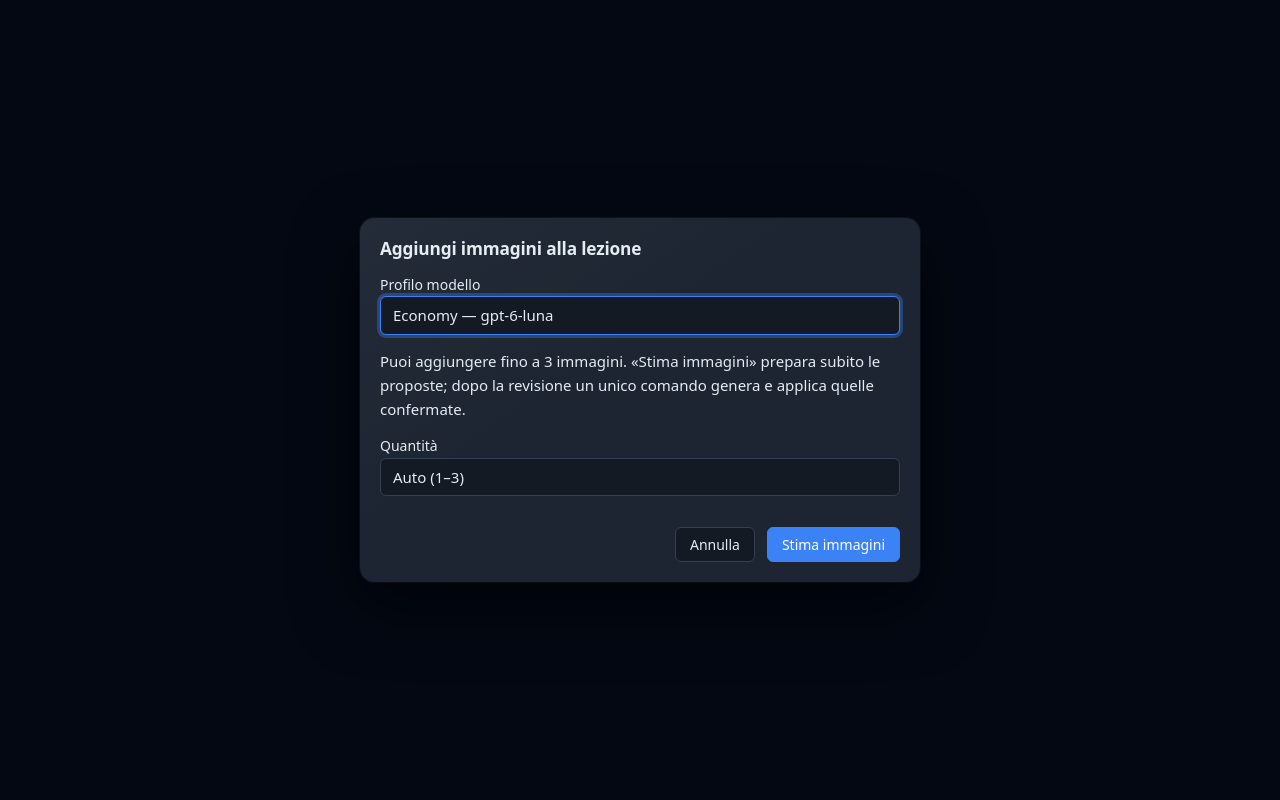
it: LessonMultiVisualWorkflowDialog › continua sugli slot successivi se un errore locale interrompe uno slot
Click the button "Stima immagini": (833, 544) [767, 527, 900, 562]
(page scrolled)
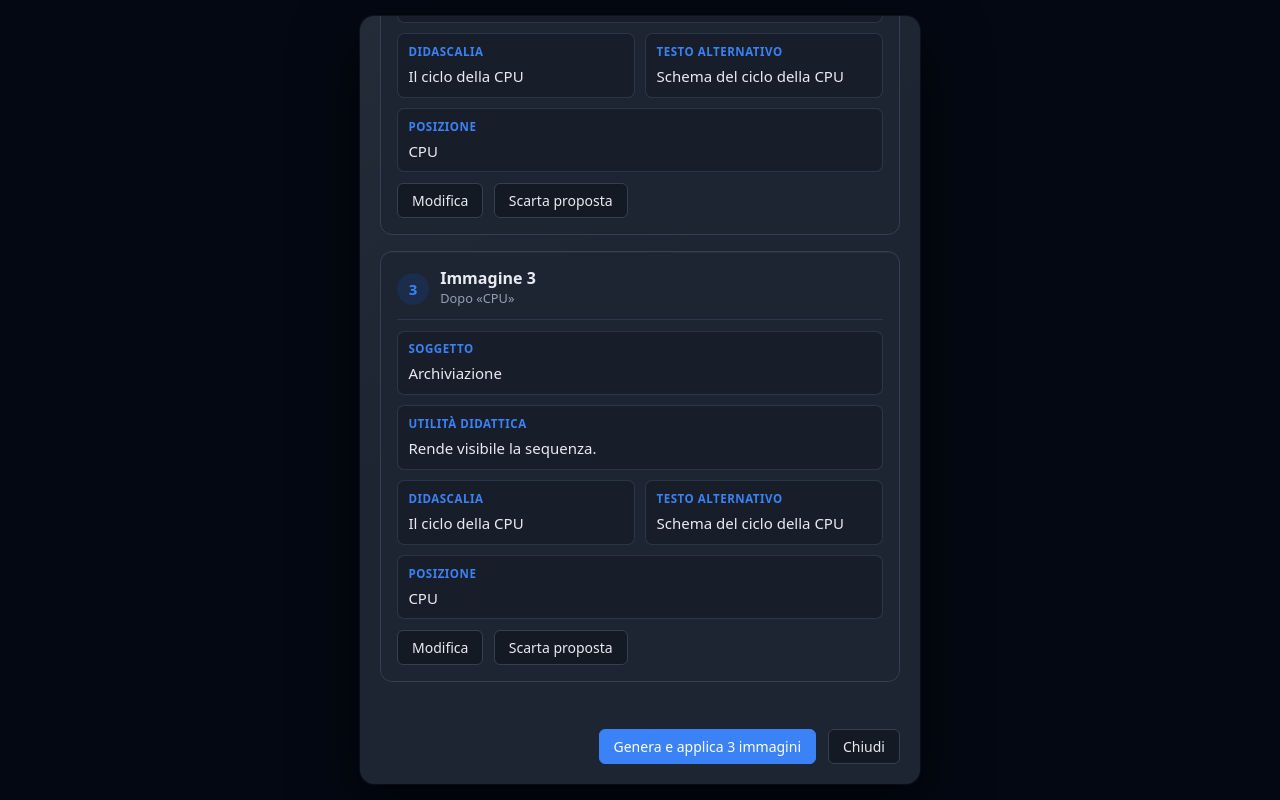
Click the button "Genera e applica 3 immagini": (707, 747) [598, 729, 816, 764]
(page scrolled)
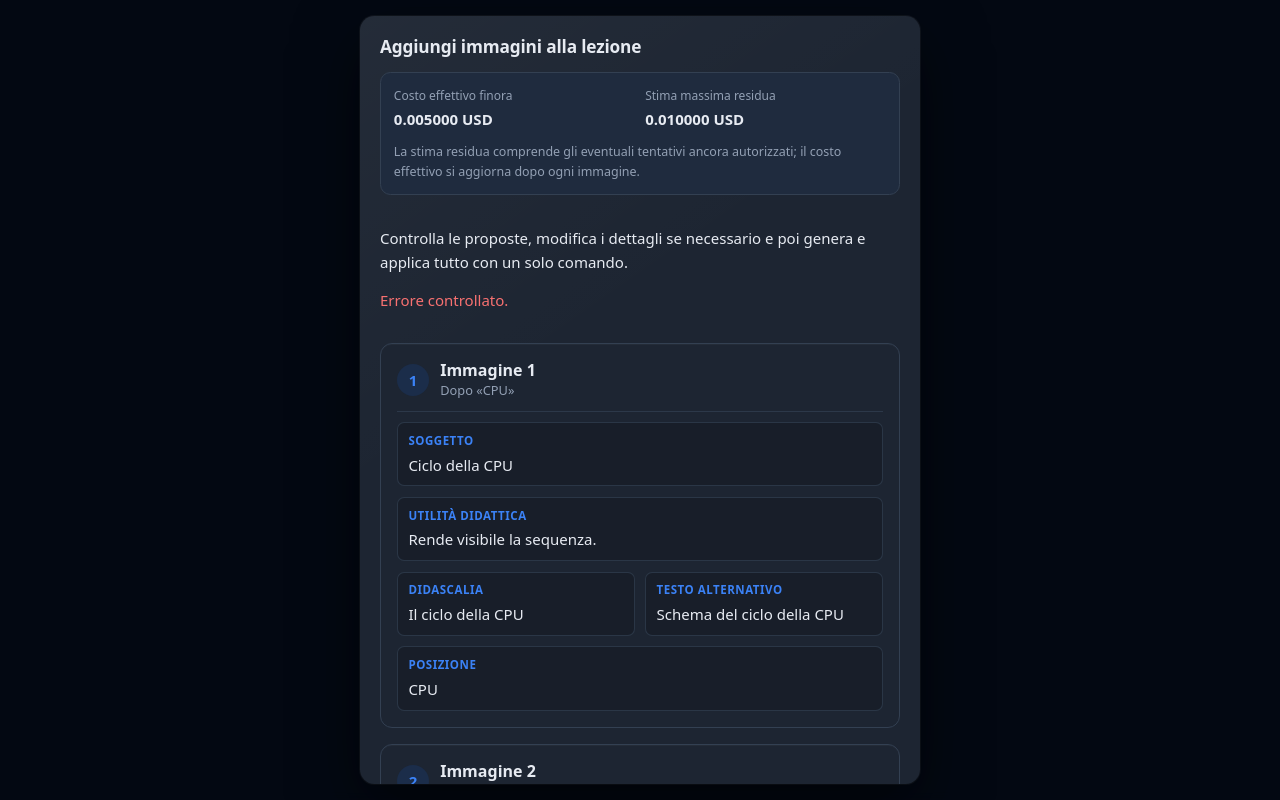
Result: the message "Errore controllato." is shown at [380, 290, 508, 310]
